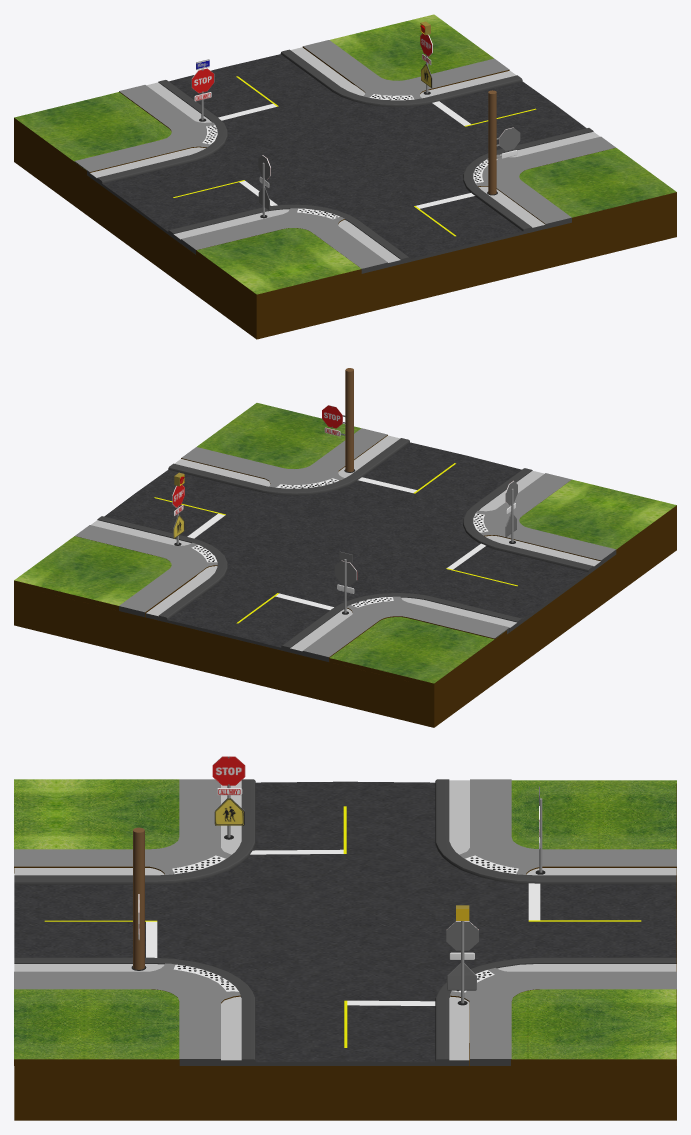
File: Road.gltf
3 renders of one model, top to bottom at view 1: azimuth 30°, elevation 25°; view 2: azimuth 150°, elevation 25°; view 3: azimuth 270°, elevation 25°, orthographic. The views are drawn at different scales.
Visible parts, largest first — view 1: polySurface12, pPlane25, polySurface23, Ground, polySurface17, polySurface46, polySurface52, polySurface47, polySurface48, polySurface5, polySurface35; view 2: polySurface12, pPlane25, polySurface23, Ground, polySurface17, polySurface52, polySurface48, polySurface47, polySurface46, polySurface5, polySurface35; view 3: polySurface12, polySurface23, pPlane25, Ground, polySurface47, polySurface48, polySurface17, polySurface52, polySurface46, polySurface5, polySurface35, polySurface43 (+3 smaller).
Part boxes in pixels (x1,y1,x2,y2): polySurface12: (97, 49, 593, 263); pPlane25: (14, 122, 676, 339); polySurface23: (196, 14, 676, 299); Ground: (14, 82, 211, 182); polySurface17: (173, 47, 599, 267); polySurface46: (181, 208, 387, 273); polySurface52: (74, 85, 214, 176); polySurface47: (475, 136, 615, 228); polySurface48: (302, 40, 509, 99); polySurface5: (173, 76, 536, 236); polySurface35: (488, 90, 496, 194); polySurface12: (97, 438, 593, 652); pPlane25: (14, 510, 676, 727); polySurface23: (14, 403, 676, 610); Ground: (290, 597, 517, 687); polySurface17: (91, 435, 600, 620); polySurface52: (302, 596, 509, 661); polySurface48: (75, 525, 217, 617); polySurface47: (181, 428, 387, 487); polySurface46: (476, 473, 616, 565); polySurface5: (154, 463, 517, 623); polySurface35: (345, 368, 353, 471); polySurface12: (14, 779, 676, 1065); polySurface23: (14, 779, 676, 1065); pPlane25: (14, 790, 676, 1120); Ground: (449, 780, 676, 875); polySurface47: (14, 963, 240, 1065); polySurface48: (450, 968, 676, 1065); polySurface17: (14, 780, 676, 1065); polySurface52: (459, 779, 676, 874); polySurface46: (14, 779, 231, 874); polySurface5: (44, 806, 641, 1047); polySurface35: (133, 827, 144, 969); polySurface43: (212, 756, 245, 785).
Bounding box in the file's own units: 16.76 × 5.54 × 16.78.
14 materials, 1 textured.
